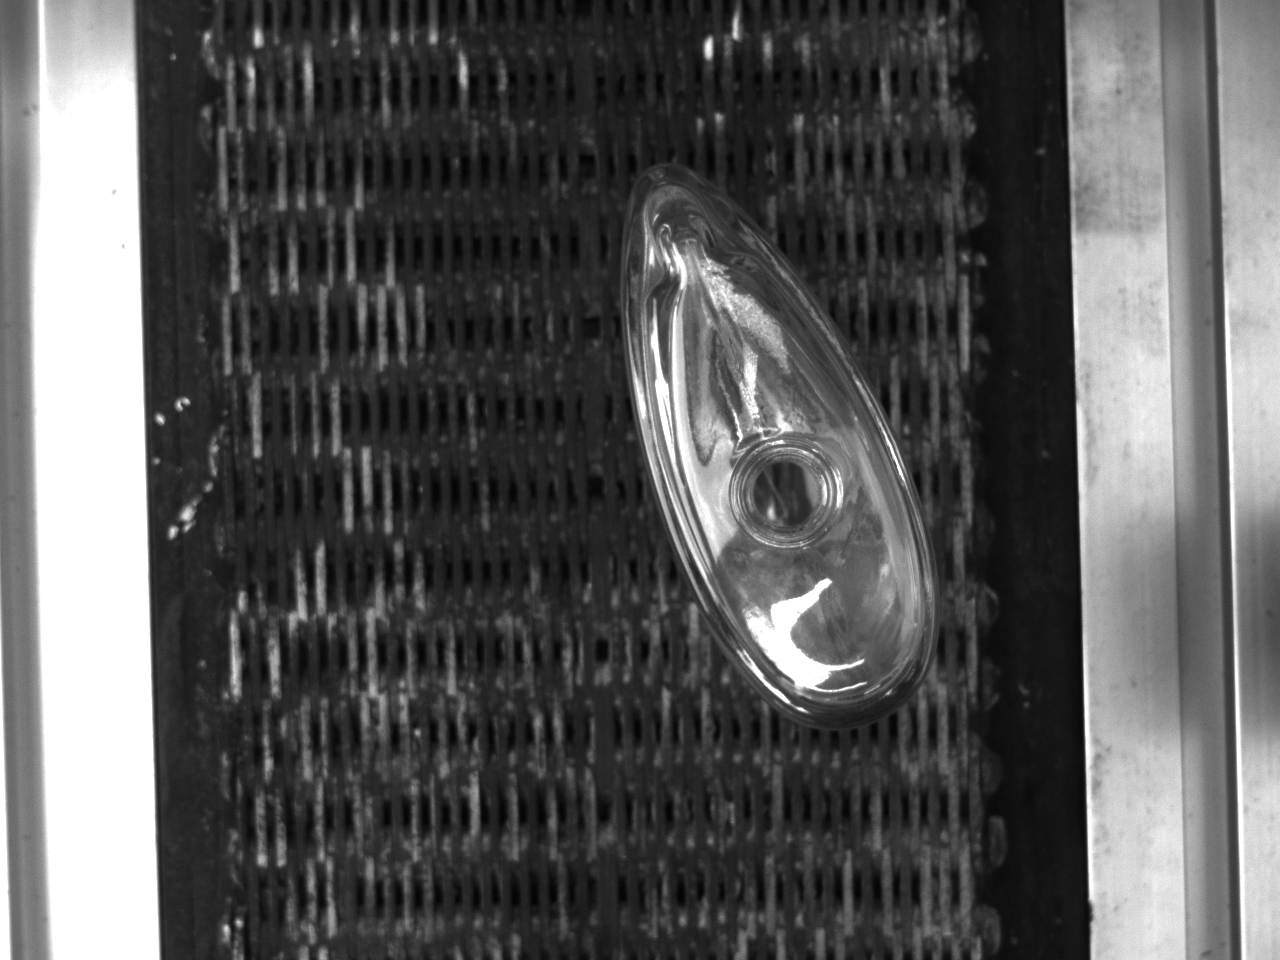bottleneck: (731, 439, 844, 549)
